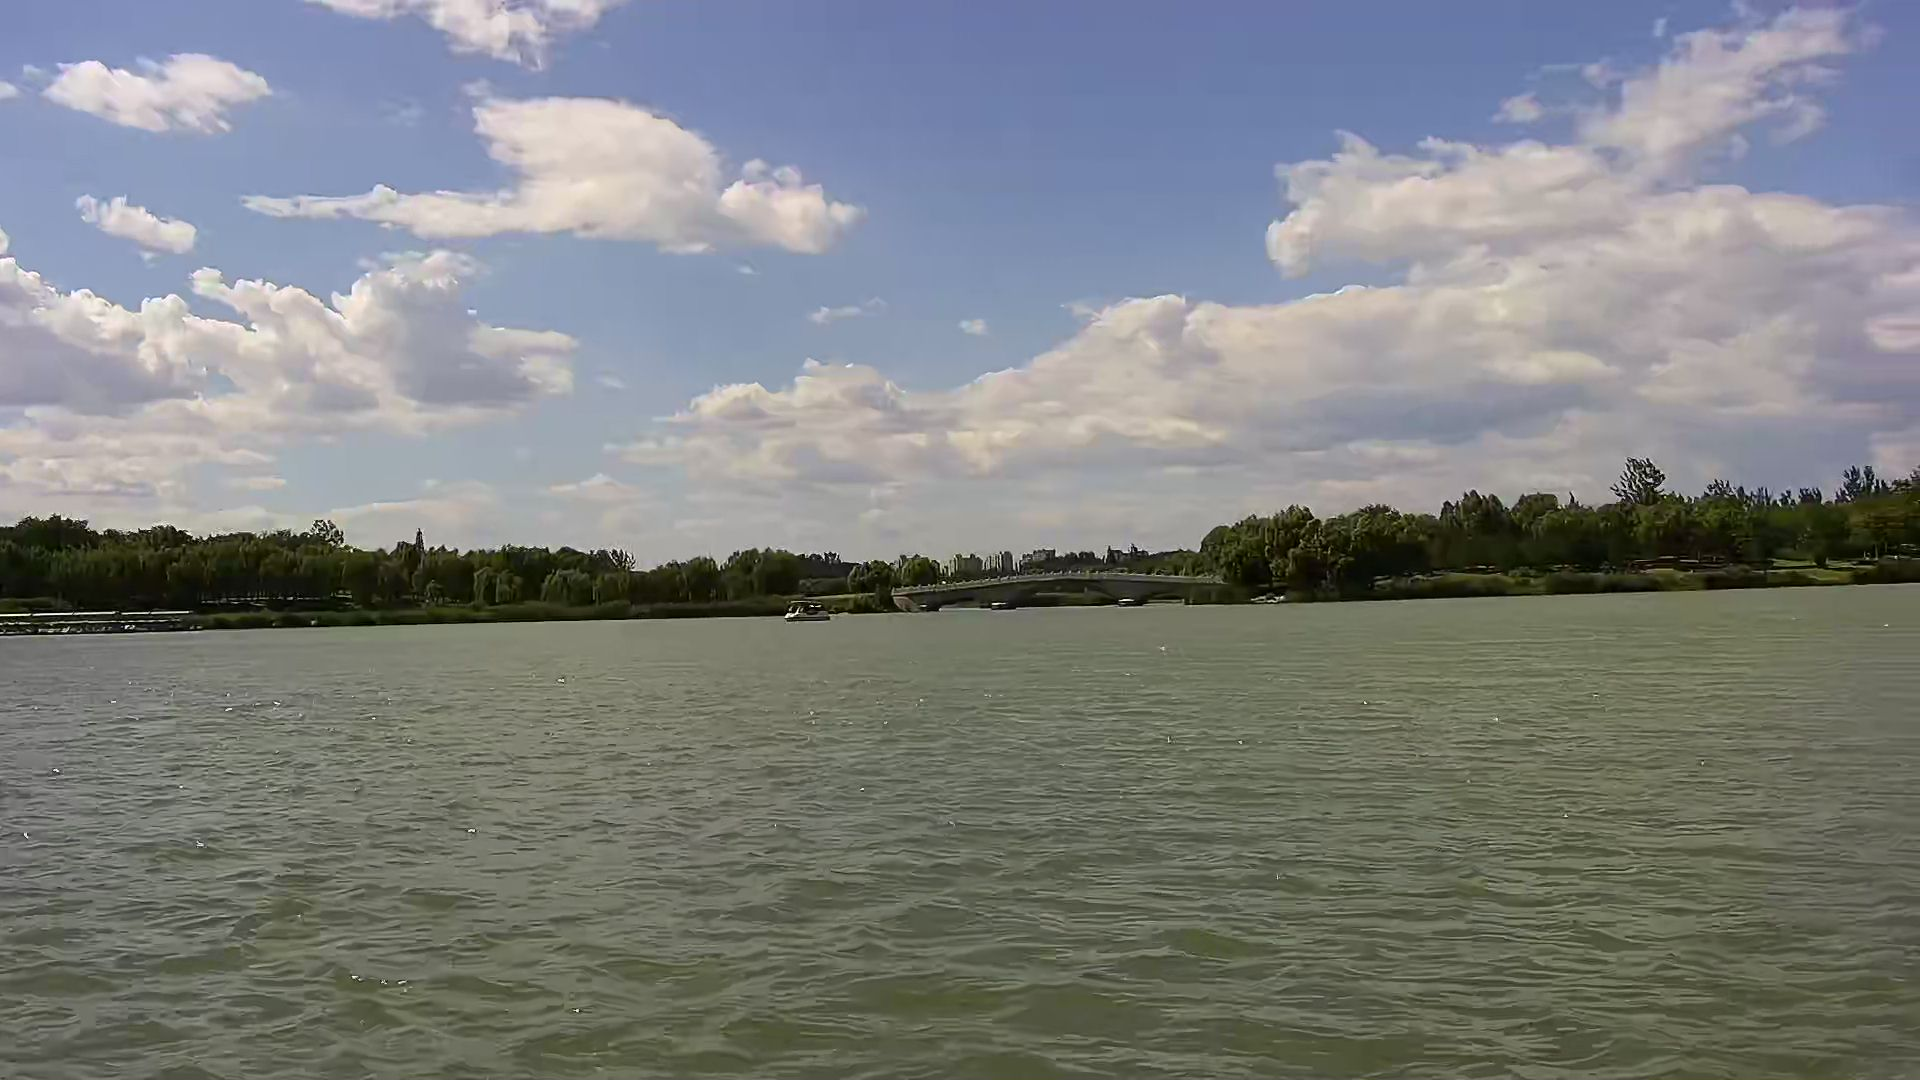boat: (781, 596, 833, 622)
bridge: (895, 574, 1218, 611), (1, 609, 191, 636)
